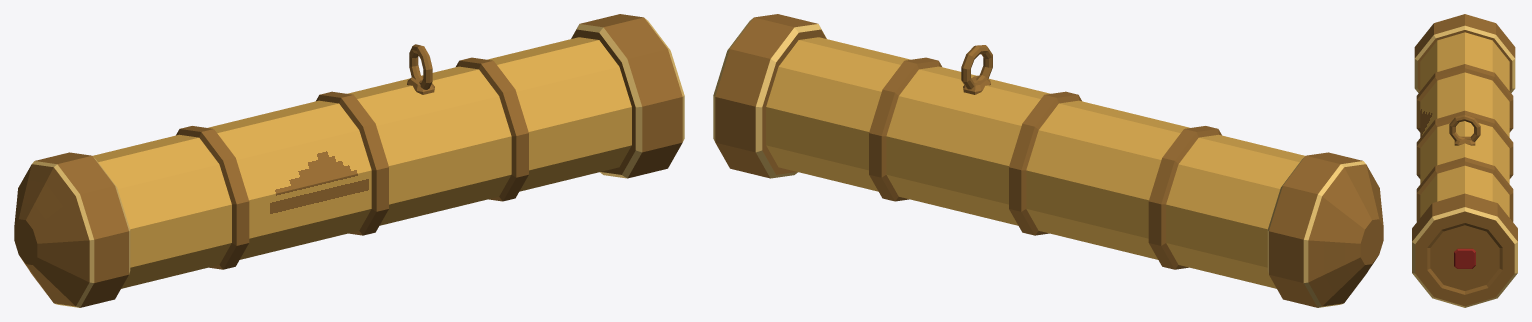
File: 捞获-黄铜信筒.glb
3 renders of one model, left to right at view 1: azimuth 30°, elevation 25°; view 2: azimuth 150°, elevation 25°; view 3: azimuth 270°, elevation 25°, orthographic. The views are drawn at different scales.
Parts seen in each view (by area): view 1: metal_brass_tube; view 2: metal_brass_tube; view 3: metal_brass_tube, matte_wax_seal.
Boxes of the visible parts, left/top/right/bottom form: metal_brass_tube: left=14, top=14, right=684, bottom=307; metal_brass_tube: left=713, top=14, right=1383, bottom=307; metal_brass_tube: left=1412, top=14, right=1517, bottom=307; matte_wax_seal: left=1454, top=248, right=1475, bottom=268.
Size of the model in its own units: 0.893 by 0.238 by 0.1921.
Materials: 2 (2 with a texture image).
